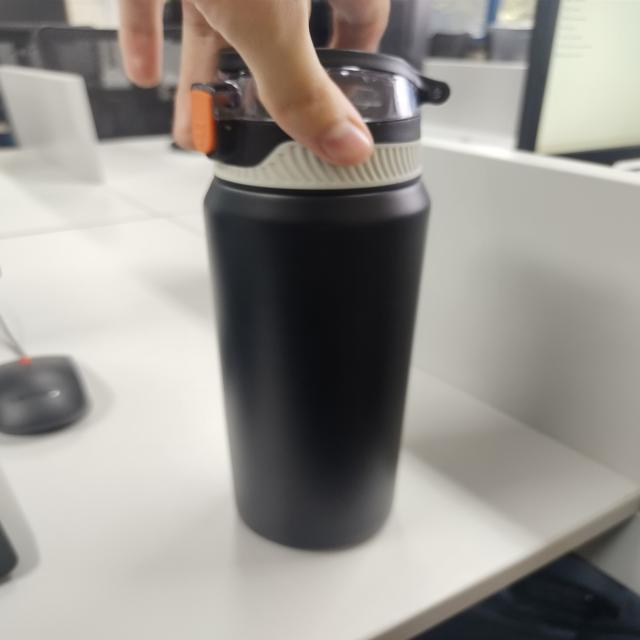Garrafa: (187, 34, 460, 557)
